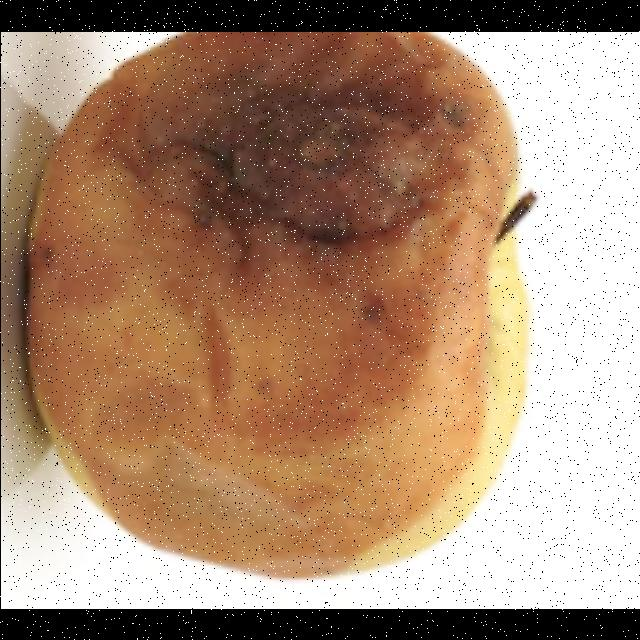Apel Tidak Segar: (28, 31, 536, 574)
